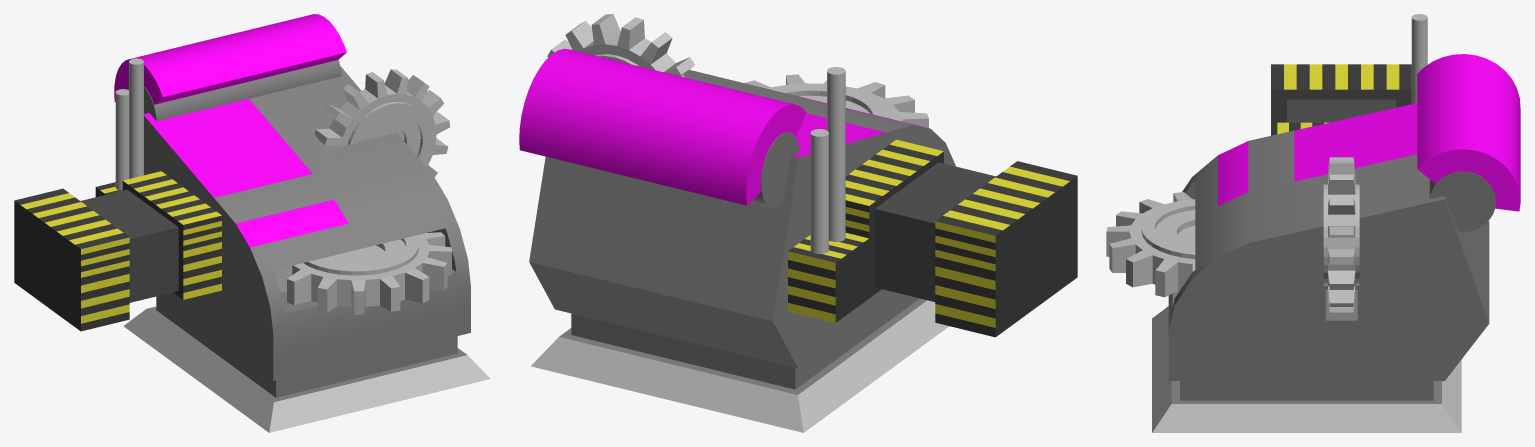
Rendered from FactoryAddOn.fbx.
The picture shows the model from 3 angles, left to right: view 1: azimuth 30°, elevation 25°; view 2: azimuth 150°, elevation 25°; view 3: azimuth 270°, elevation 25°; orthographic projection. The views are drawn at different scales.
Parts seen in each view (by area): view 1: Cube.060, Cube.059, Cylinder.069, Cylinder.073, Cylinder.072, Cylinder.068, Cylinder.070; view 2: Cube.060, Cube.059, Cylinder.069, Cylinder.070, Cylinder.072, Cylinder.073, Cylinder.068; view 3: Cube.060, Cylinder.069, Cube.059, Cylinder.073, Cylinder.072, Cylinder.068, Cylinder.070.
Boxes of the visible parts, x1,y1,x2,y2 form: Cube.060: (123, 66, 490, 432); Cube.059: (14, 171, 221, 331); Cylinder.069: (114, 14, 346, 104); Cylinder.073: (273, 232, 451, 314); Cylinder.072: (314, 69, 449, 177); Cylinder.068: (127, 60, 341, 121); Cylinder.070: (115, 58, 143, 190); Cube.060: (529, 70, 955, 432); Cube.059: (788, 139, 1077, 337); Cylinder.069: (519, 48, 806, 205); Cylinder.070: (810, 67, 845, 253); Cylinder.072: (547, 14, 694, 77); Cylinder.073: (744, 74, 928, 128); Cylinder.068: (750, 132, 799, 207); Cube.060: (1152, 103, 1489, 432); Cylinder.069: (1417, 54, 1520, 211); Cube.059: (1271, 64, 1411, 135); Cylinder.073: (1106, 192, 1195, 297); Cylinder.072: (1323, 157, 1359, 312); Cylinder.068: (1429, 171, 1495, 231); Cylinder.070: (1411, 14, 1427, 104).
Bounding box in the file's own units: 198 × 134 × 169.
